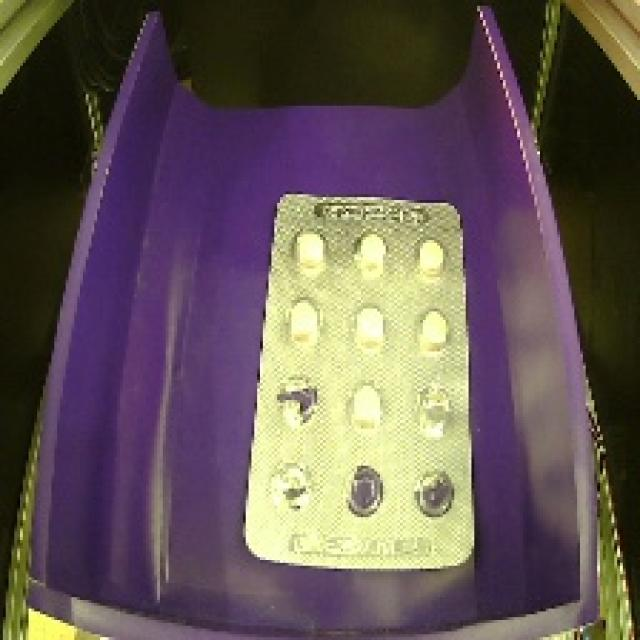med_plate: (228, 178, 492, 582)
